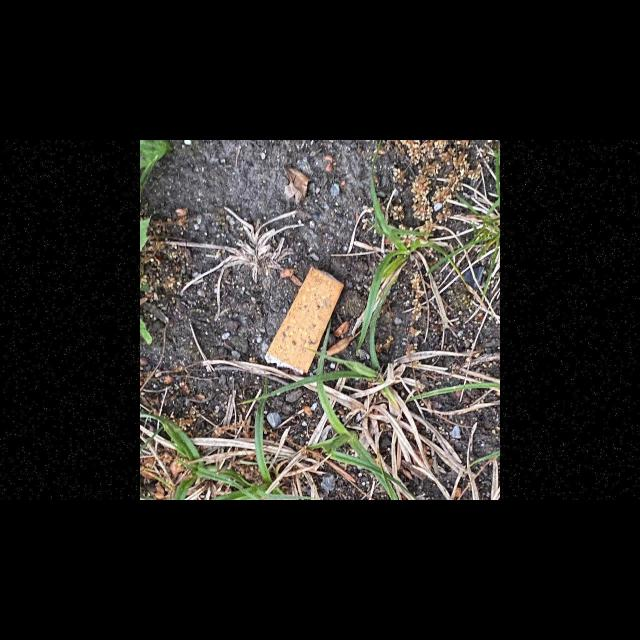cigarette: (263, 265, 346, 376)
